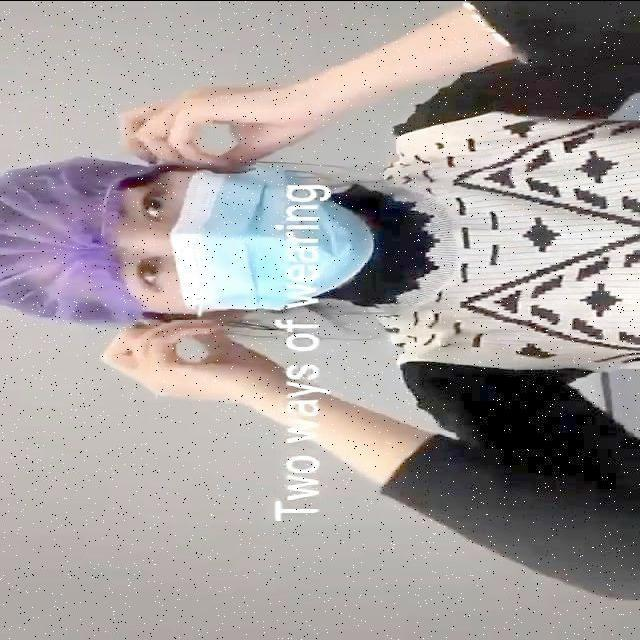gloves: (0, 171, 112, 325)
no_apron: (94, 318, 243, 412), (119, 85, 271, 163)
